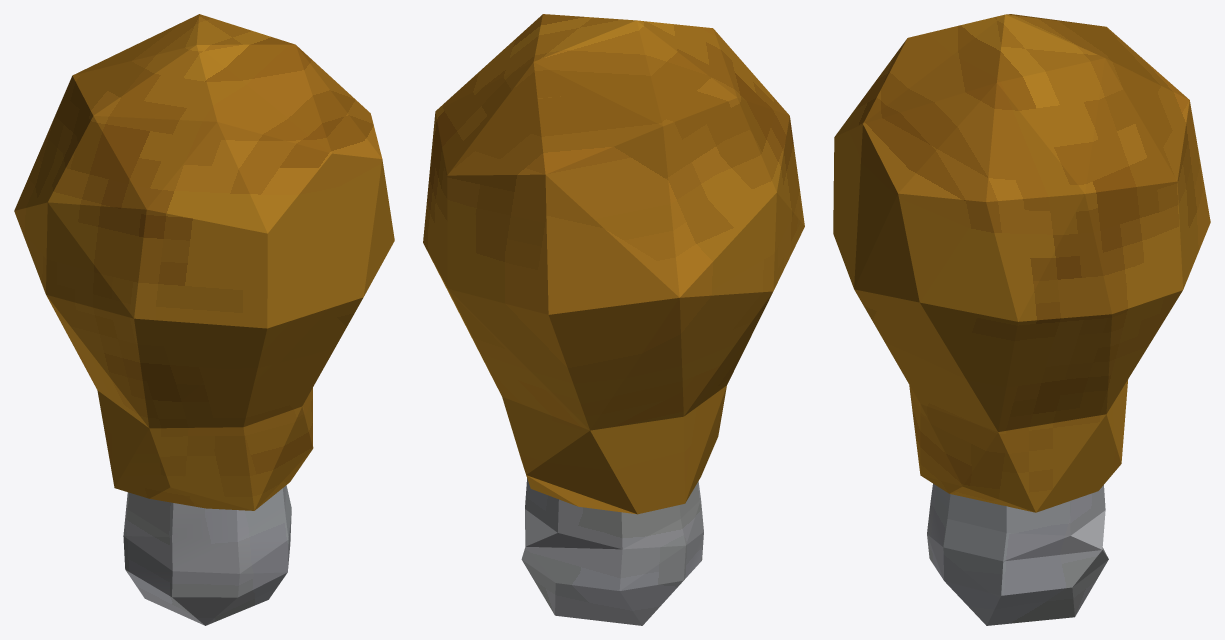
Rendered from item_ticket_machine_bulb_orange.glb.
3 views of the same model, side by side, from view 1: azimuth 30°, elevation 25°; view 2: azimuth 150°, elevation 25°; view 3: azimuth 270°, elevation 25° (orthographic). The views are drawn at different scales.
Parts seen in each view (by area): view 1: lightbulb_submesh_0, lightbulb_submesh_1; view 2: lightbulb_submesh_0, lightbulb_submesh_1; view 3: lightbulb_submesh_0, lightbulb_submesh_1.
Boxes of the visible parts, <box> form: lightbulb_submesh_0: <box>14,14,394,510</box>; lightbulb_submesh_1: <box>123,485,291,625</box>; lightbulb_submesh_0: <box>423,14,804,514</box>; lightbulb_submesh_1: <box>521,478,703,625</box>; lightbulb_submesh_0: <box>833,14,1210,512</box>; lightbulb_submesh_1: <box>927,483,1108,625</box>.
Bounding box in the file's own units: 0.2249 × 0.3754 × 0.2215.
2 materials, 2 textured.
